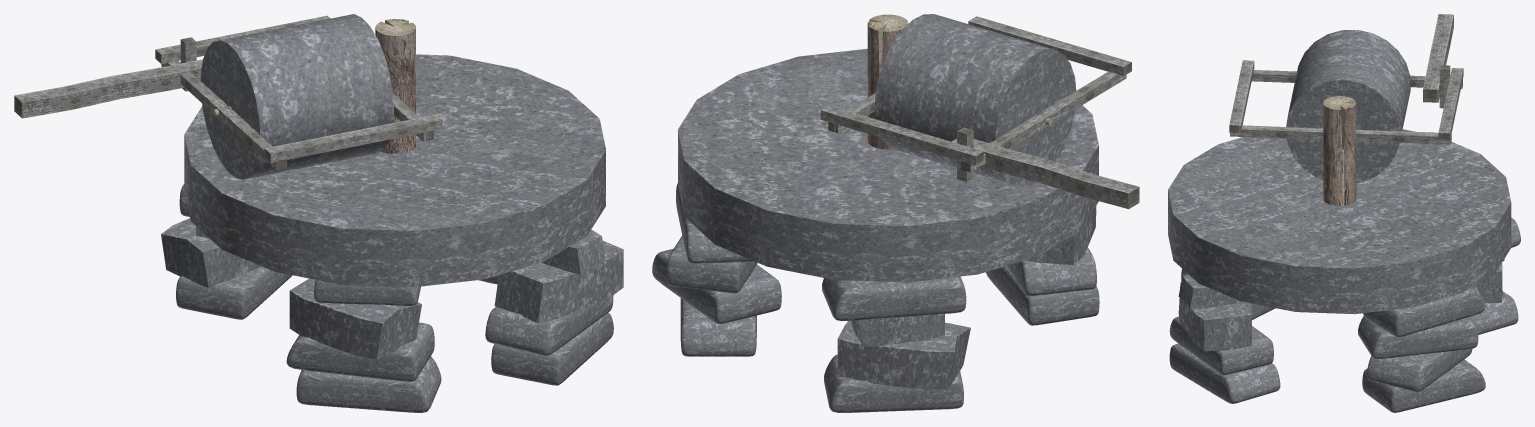
The model's file is shimo_3.glb.
3 renders of one model, left to right at view 1: azimuth 30°, elevation 25°; view 2: azimuth 150°, elevation 25°; view 3: azimuth 270°, elevation 25°, orthographic. The views are drawn at different scales.
Parts seen in each view (by area): view 1: Asset3DLoader.sceneRoot; view 2: Asset3DLoader.sceneRoot; view 3: Asset3DLoader.sceneRoot.
Part boxes in pixels (left/top/right/bottom): Asset3DLoader.sceneRoot: left=14, top=14, right=623, bottom=412; Asset3DLoader.sceneRoot: left=652, top=14, right=1139, bottom=412; Asset3DLoader.sceneRoot: left=1168, top=14, right=1520, bottom=412.
Bounding box in the file's own units: 252 × 150 × 189.
6 materials, 6 textured.
